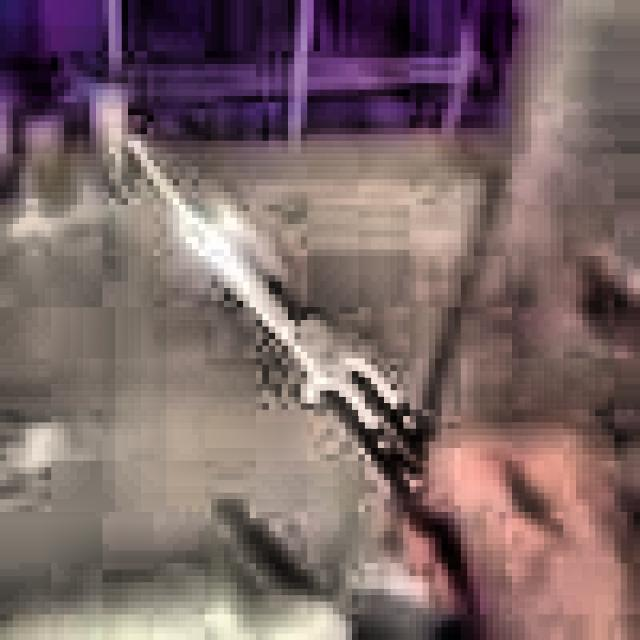knife: (136, 142, 425, 525)
